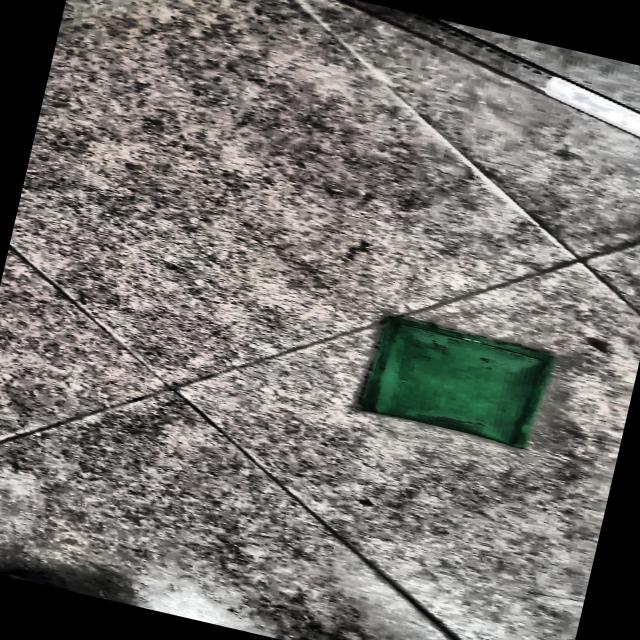payload: (360, 316, 554, 448)
